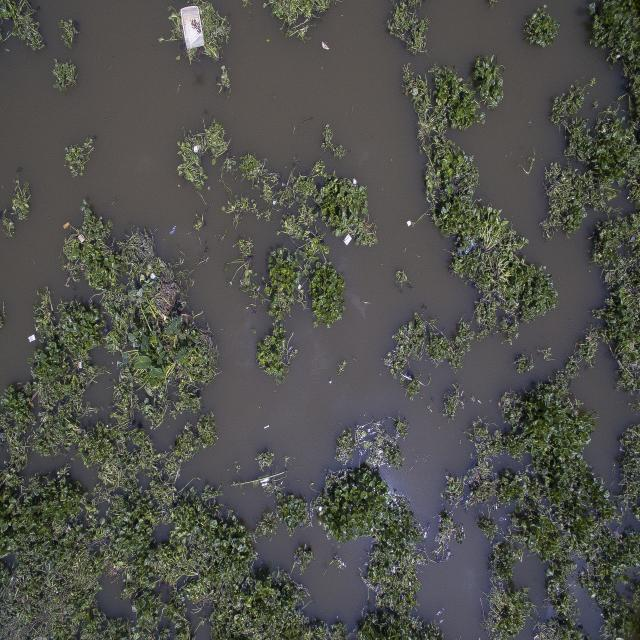plastic: (178, 4, 208, 54), (27, 333, 38, 348), (343, 236, 355, 245)
